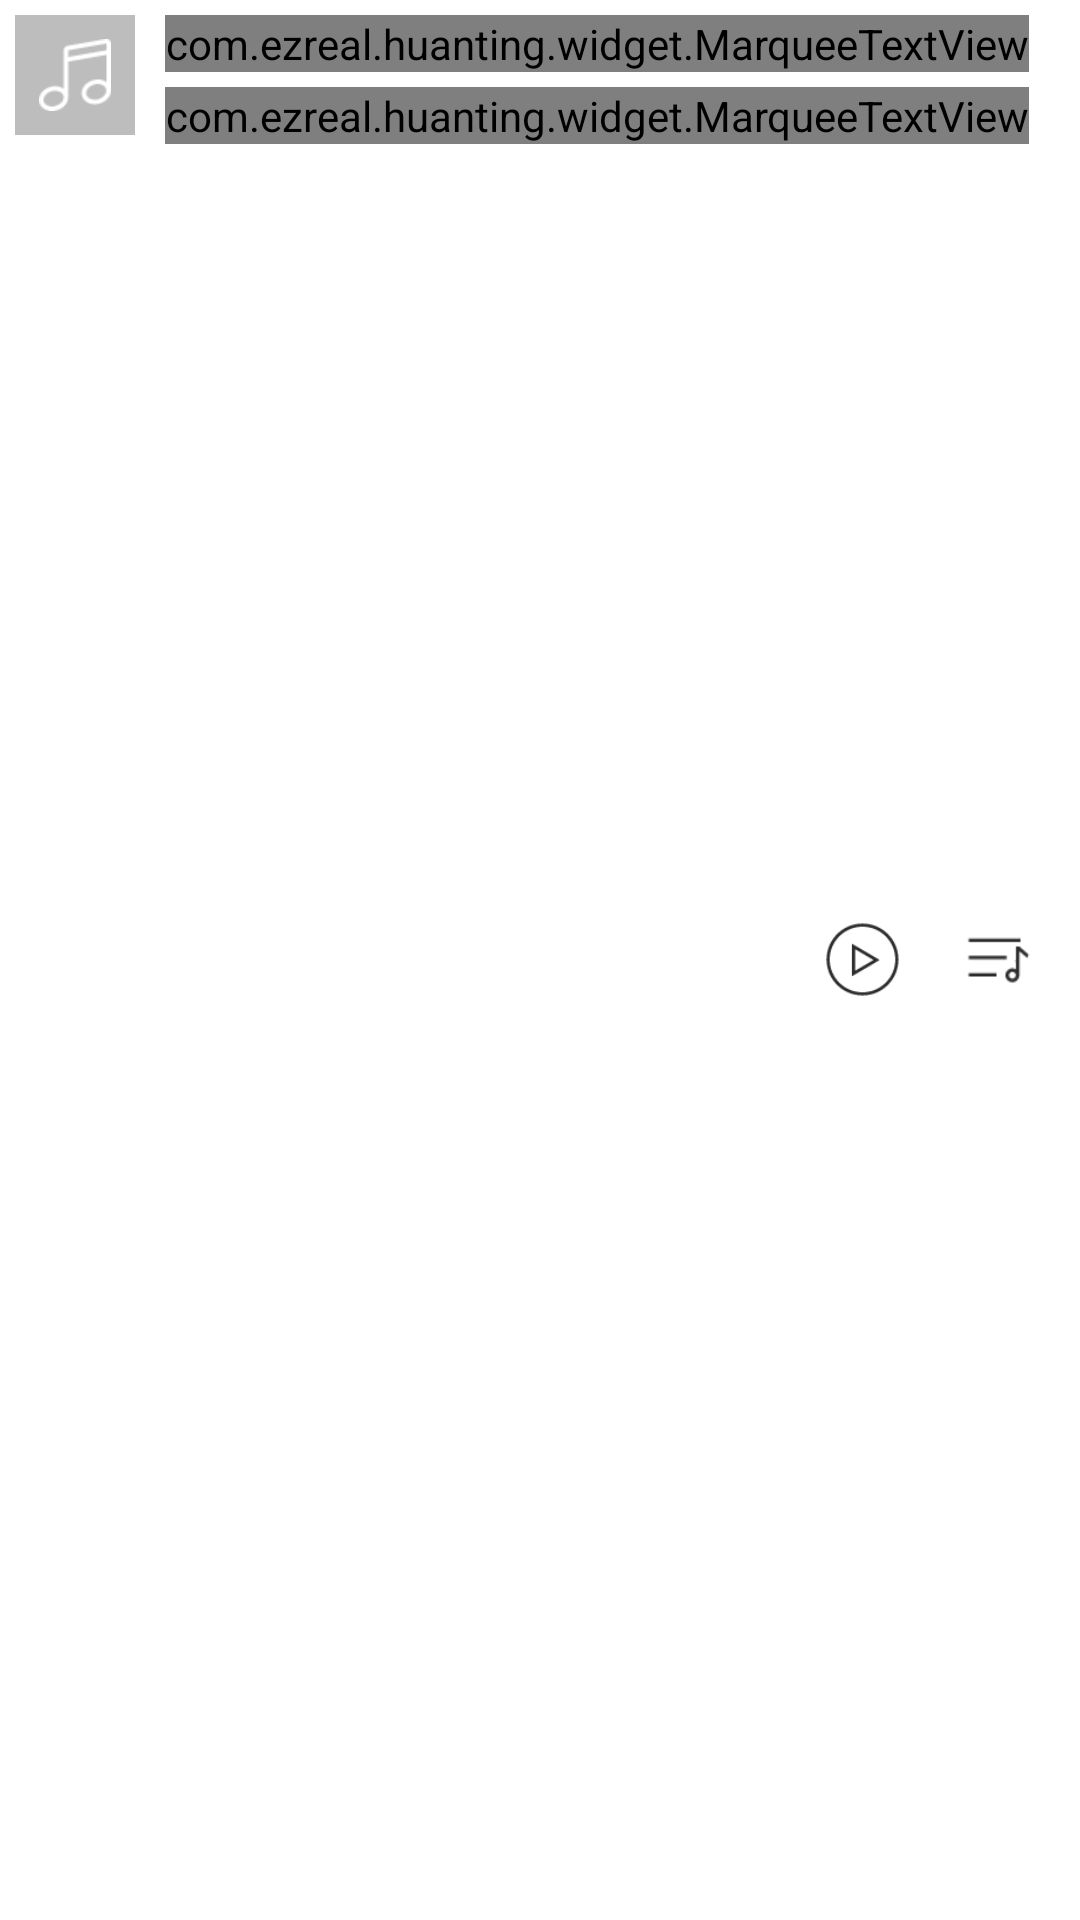

Named icons in this screenshot (1080 x 1920) and their bounding boxes, (x1, y1, x2, y2):
local music: (15, 15, 135, 135)
music list: (968, 937, 1029, 983)
play: (826, 923, 899, 996)
